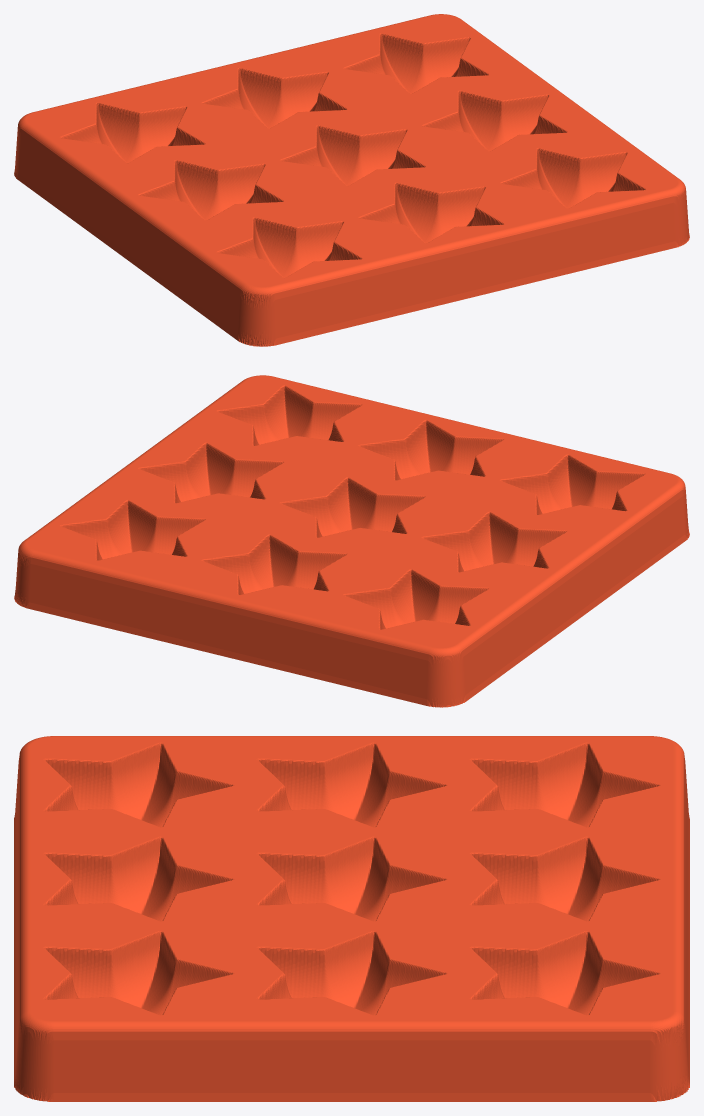
Rendered from mold.glb.
3 views of the same model, one above another, from view 1: azimuth 30°, elevation 25°; view 2: azimuth 150°, elevation 25°; view 3: azimuth 270°, elevation 25° (orthographic). The views are drawn at different scales.
Parts seen in each view (by area): view 1: geometry_0; view 2: geometry_0; view 3: geometry_0.
Part boxes in pixels (<box>): geometry_0: <box>14,14,689,346</box>; geometry_0: <box>14,375,689,707</box>; geometry_0: <box>14,736,689,1101</box>.
Size of the model in its own units: 0.1595 by 0.0185 by 0.1531.
